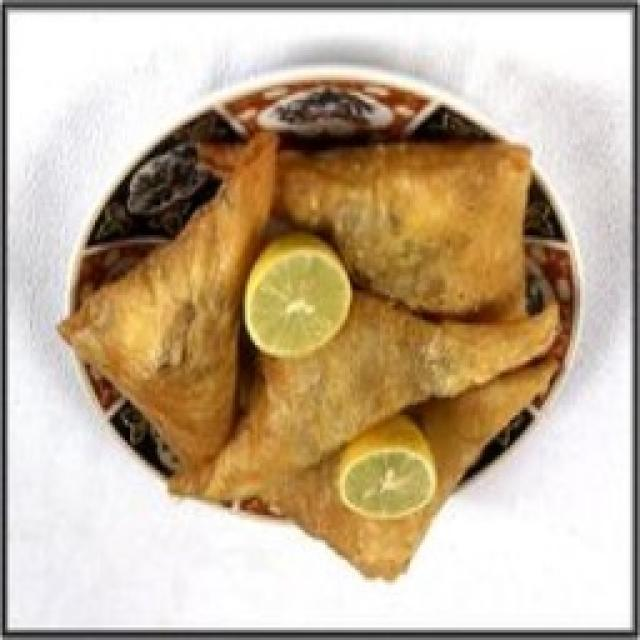Brik: (55, 88, 585, 582)
